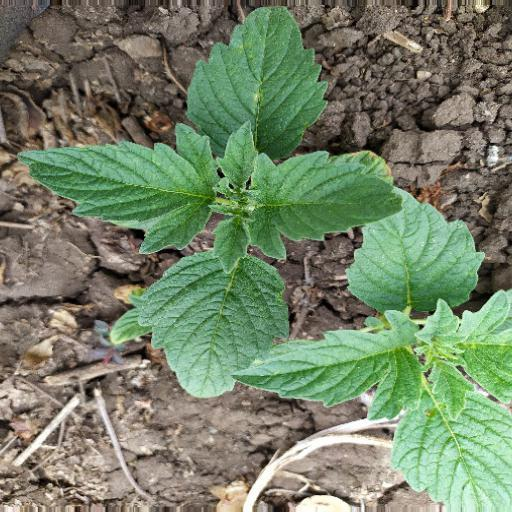crop: (23, 6, 376, 400), (272, 187, 511, 510)
